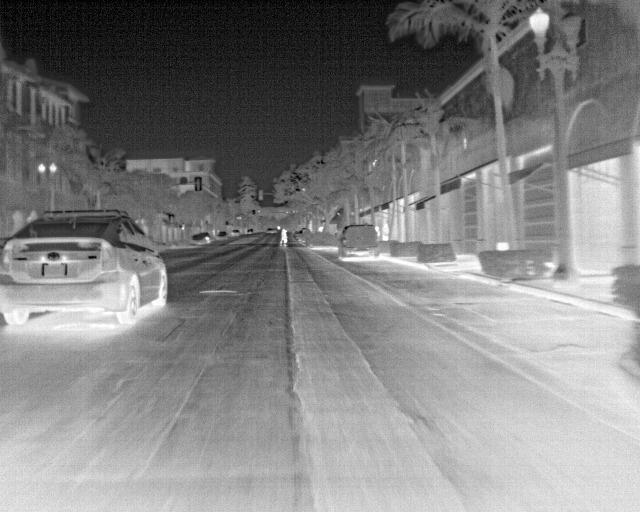bicycle: (0, 212, 171, 325), (338, 224, 382, 264), (190, 232, 210, 250), (217, 228, 230, 241), (228, 227, 240, 238)
empty: (276, 225, 289, 247)
